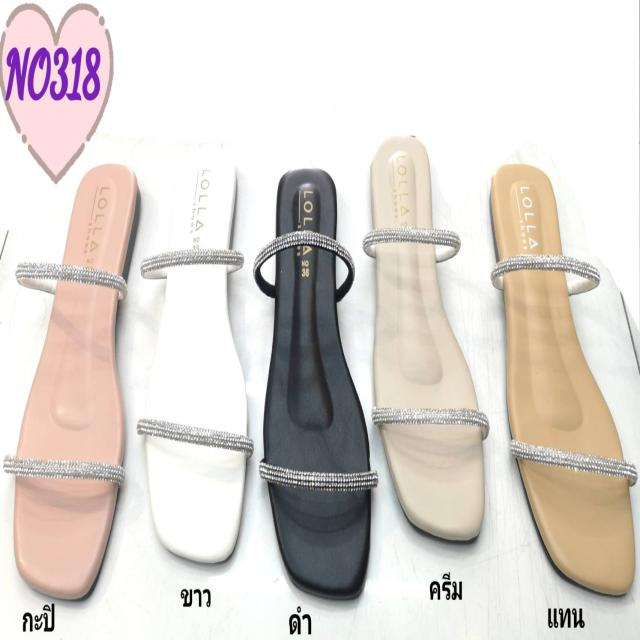black: (268, 168, 372, 604)
cream: (368, 135, 487, 545)
kapi: (19, 164, 140, 606)
tan: (488, 166, 630, 603)
white: (141, 156, 245, 561)
